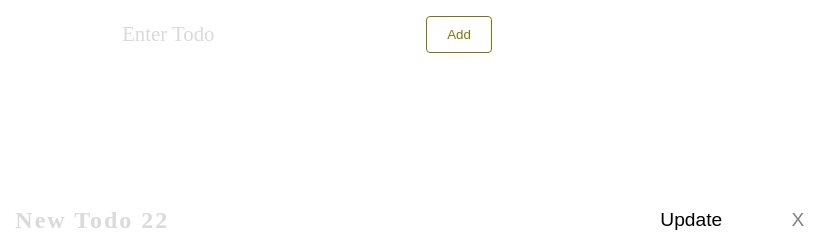
should correctly delete todo
What coordinates should you click on to do the following:
click the button "X"
I would click on:
 (798, 220)
Its box is [786,208,810,232].
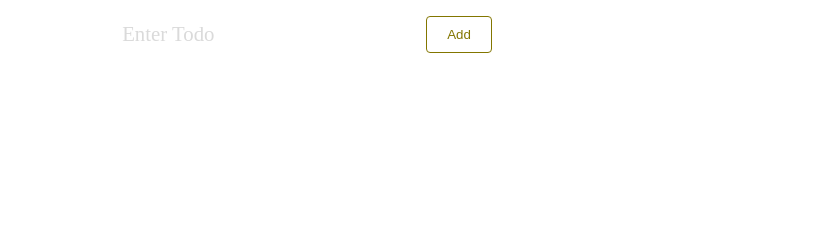
Expected: the heading "New Todo 22" is gone
